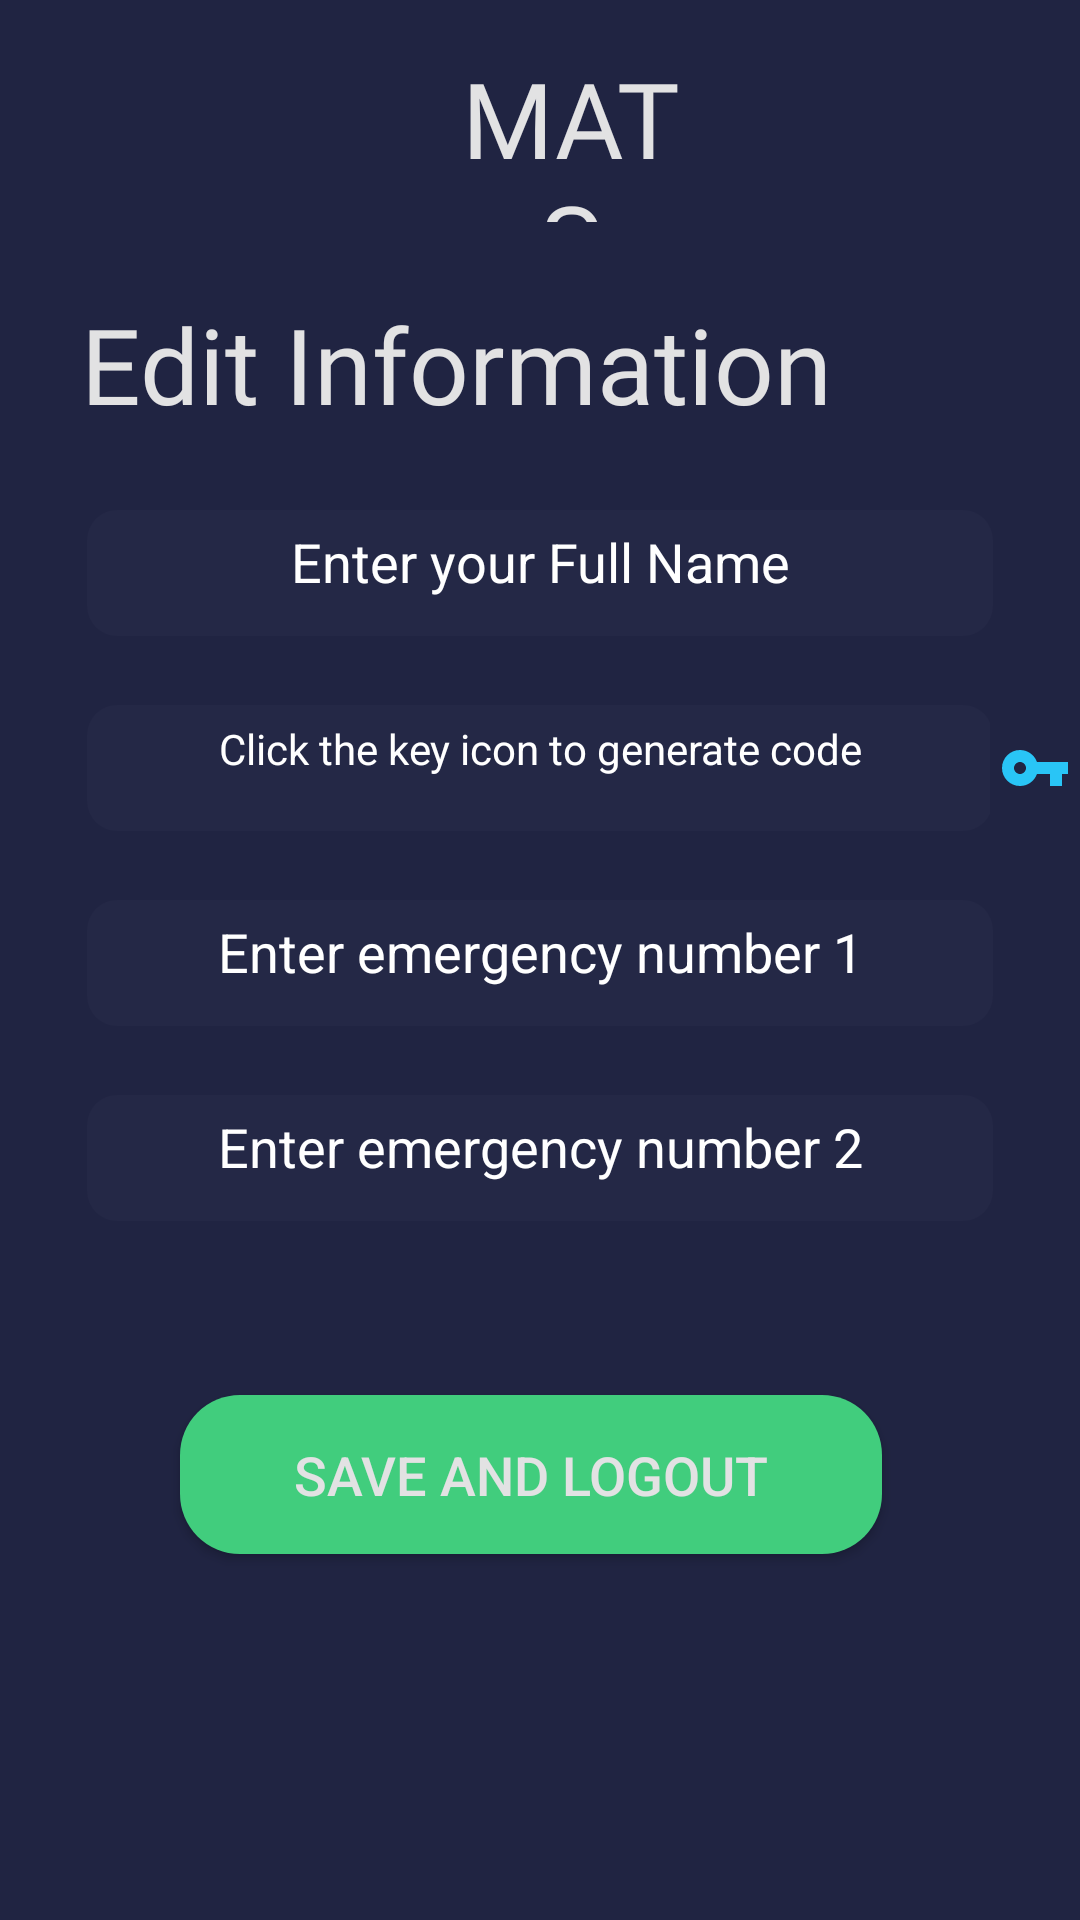

Icons on this 1080px x 1920px Android screen, each with its box as box(x1, y1, x2, y2):
keys: box(1002, 750, 1068, 786)
